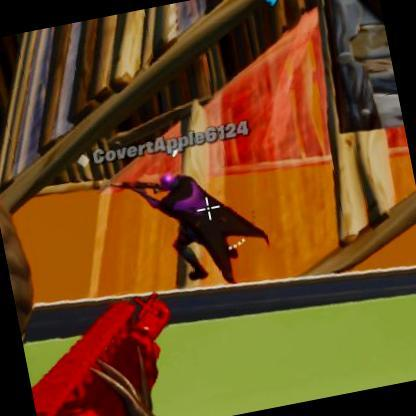person: (152, 162, 233, 292)
